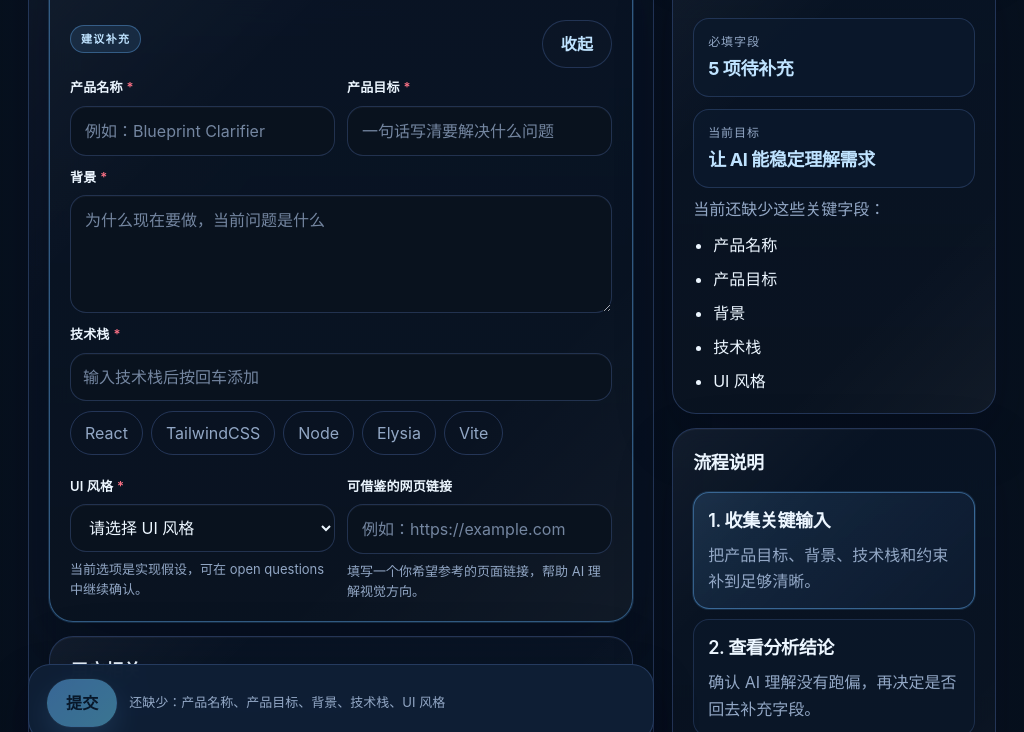
it: App › adds custom tech stack on enter
(page scrolled)
Type "Eslint" into the field labelled "技术栈" at (341, 377), box x1=81 y1=362 x2=601 y2=392
Then press Enter
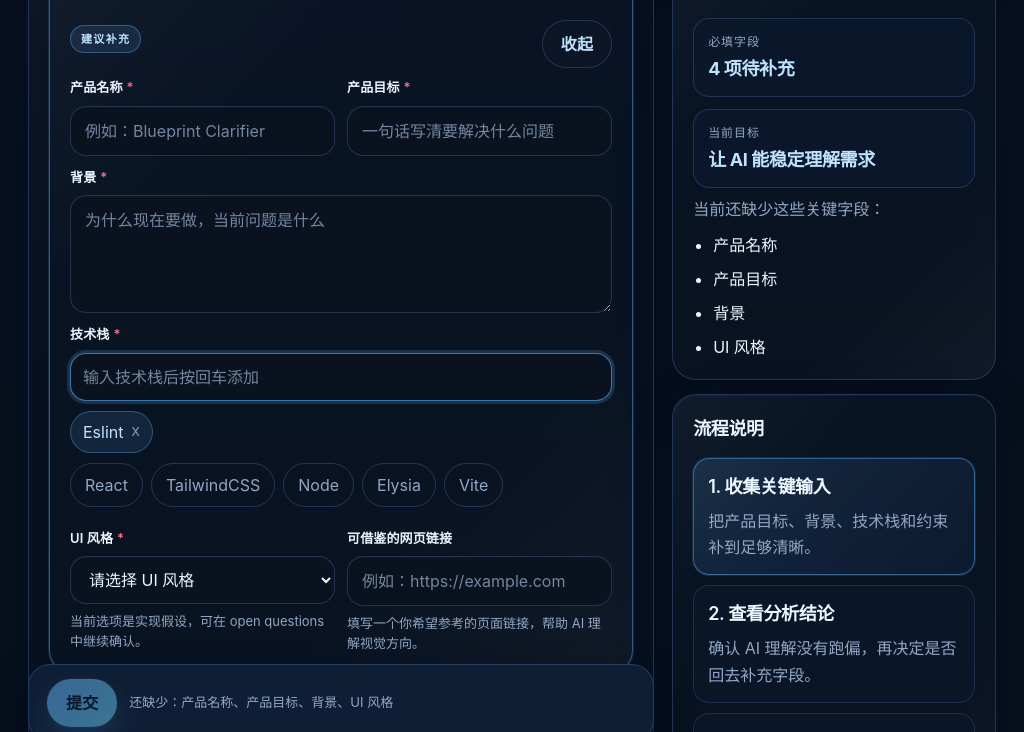
Expected: the button with aria-label "移除 Eslint" is shown, x1=70 y1=411 x2=153 y2=453
